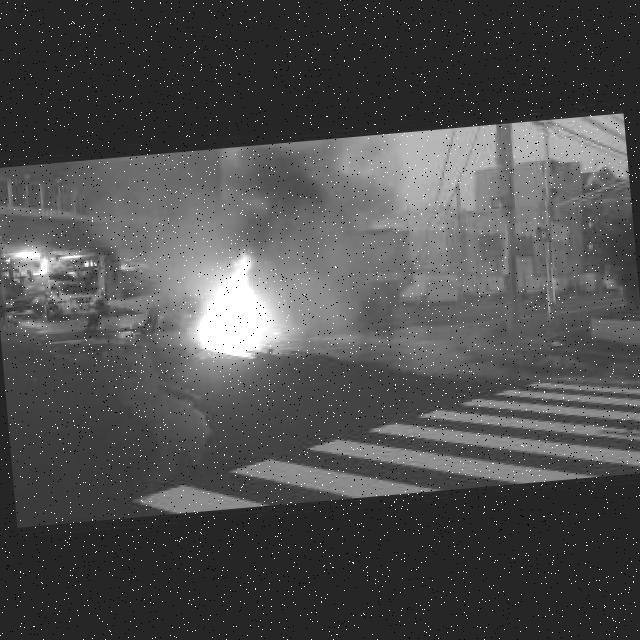Fire: (184, 250, 281, 342)
Smoke: (222, 135, 321, 268)
